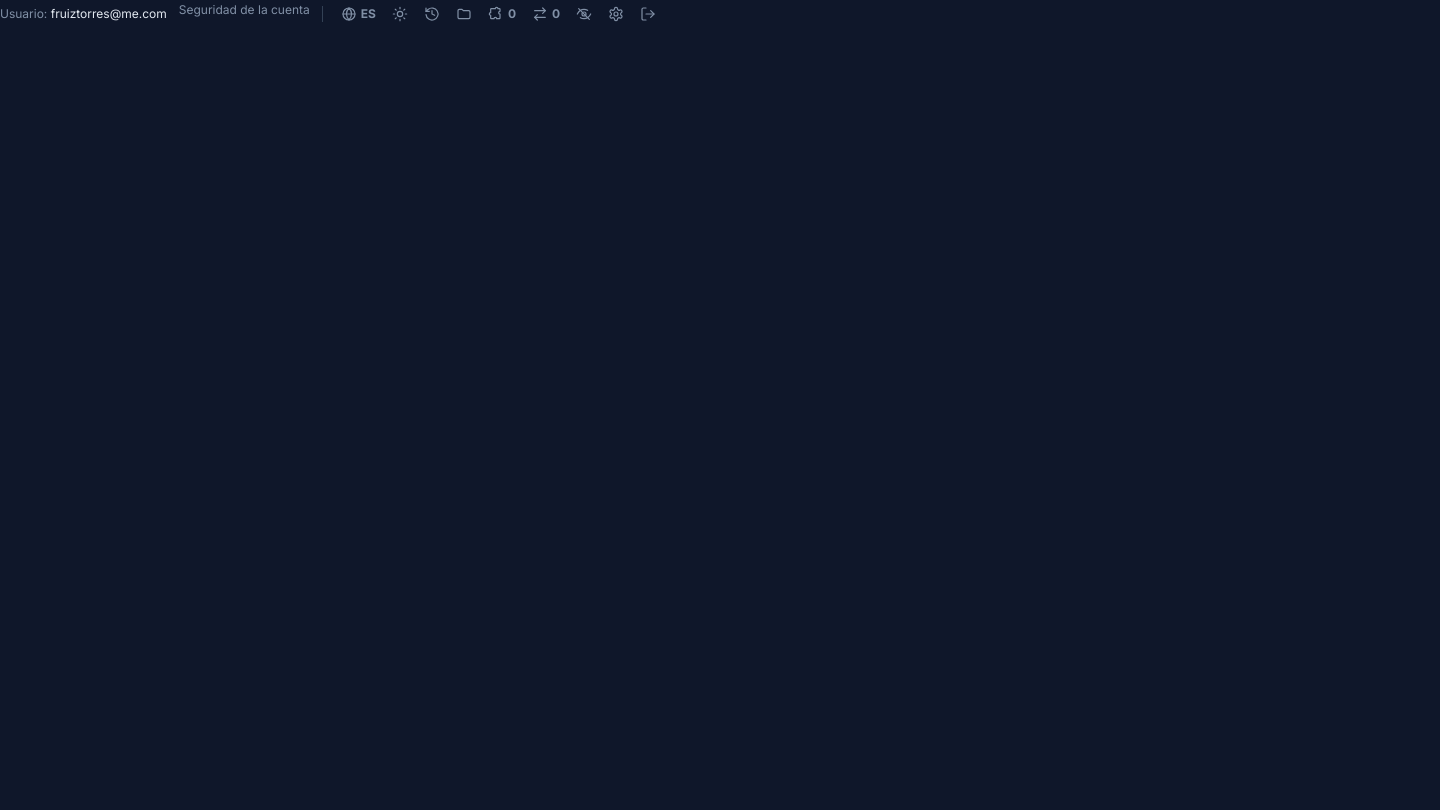
Test: BarraUsuario › tema: el botón dice a qué modo pasa y alterna
Click the button named "Modo claro": {"x": 400, "y": 14} 386,0 -> 414,28
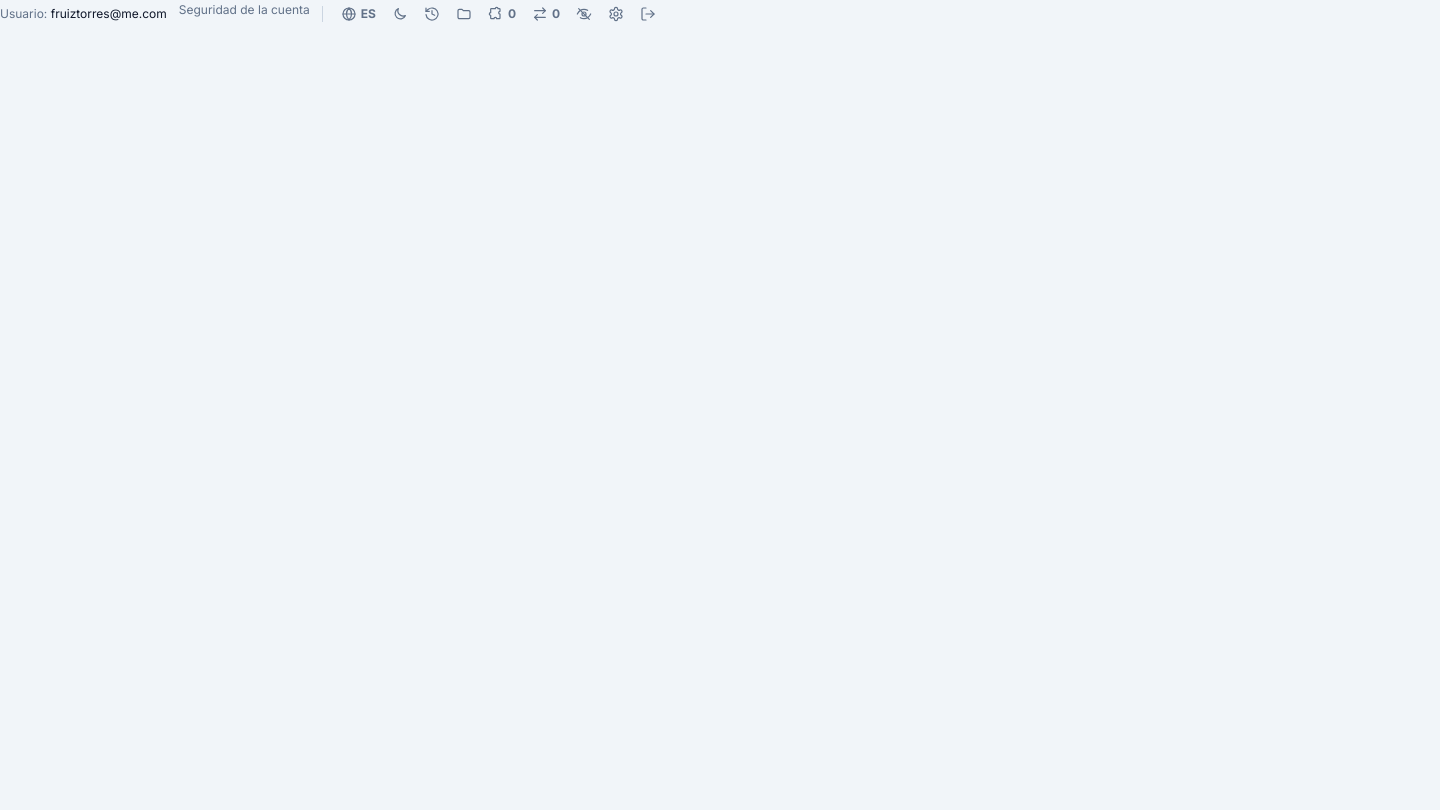
expect the button named "Modo oscuro" is shown: met, box 386,0 -> 414,28
